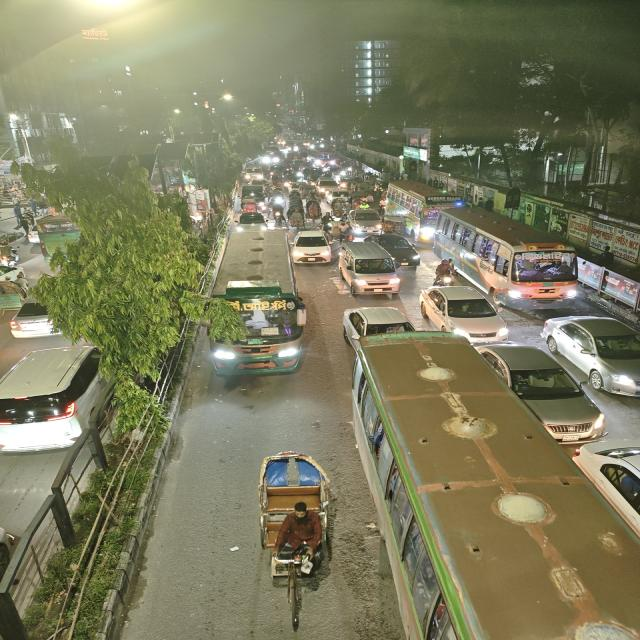bus: (351, 339, 630, 640), (434, 205, 581, 305), (206, 227, 302, 377), (579, 196, 640, 336), (384, 182, 456, 238), (33, 212, 84, 246)
car: (480, 341, 606, 445), (0, 341, 115, 454), (540, 312, 640, 398), (418, 284, 508, 342), (586, 442, 640, 521), (337, 240, 402, 296), (339, 304, 415, 342), (6, 302, 58, 341), (371, 232, 421, 268), (290, 228, 332, 266), (347, 208, 384, 235), (238, 207, 268, 232)
motorcycle: (430, 258, 457, 286), (0, 241, 22, 269), (335, 218, 356, 242), (268, 202, 286, 224)
rickshaw: (252, 447, 339, 628), (0, 276, 26, 314), (283, 206, 307, 231), (329, 194, 351, 218), (304, 199, 324, 223), (356, 192, 378, 210)
